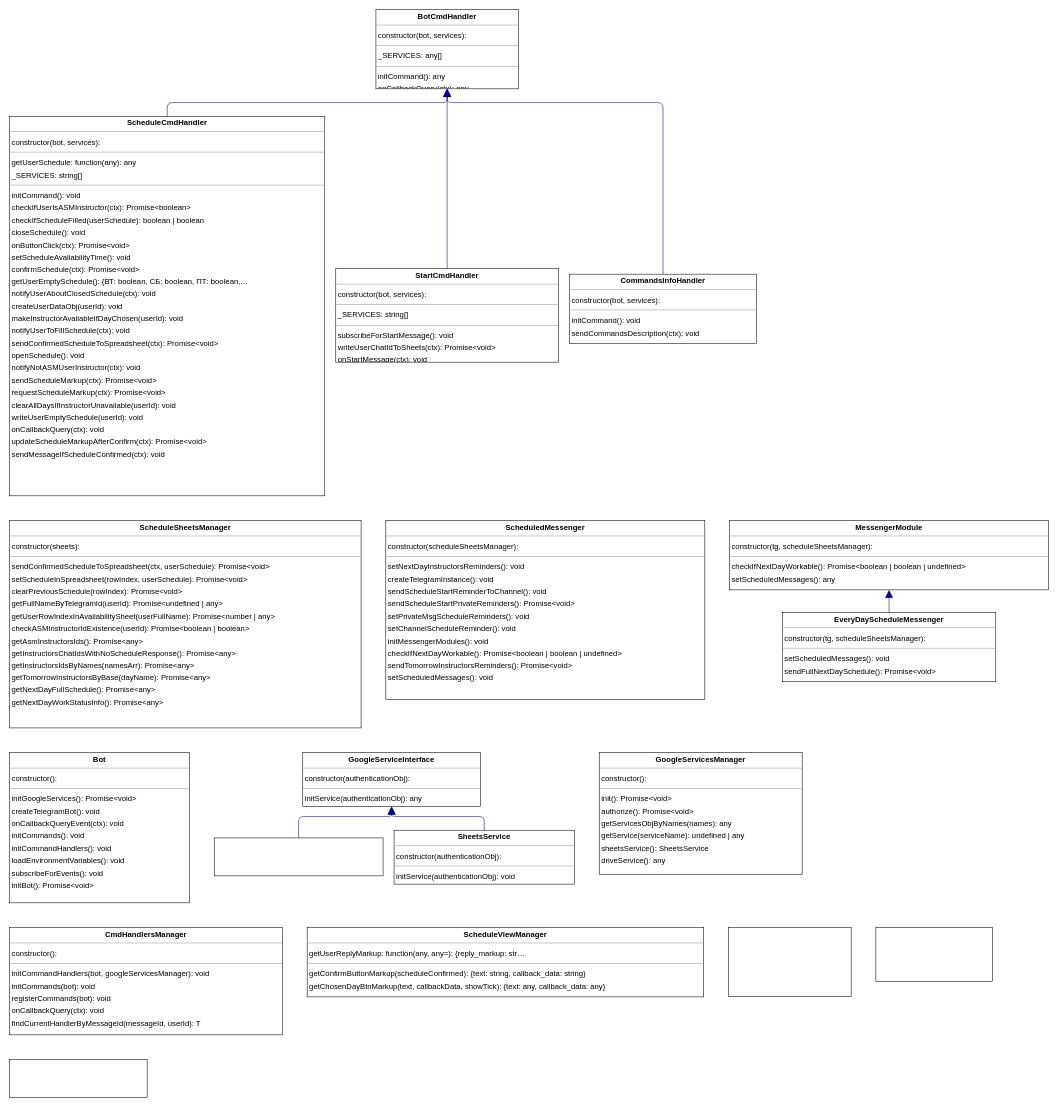
The diagram is 1058 pixels wide and 1107 high, and some of its shapes have lost their labels. The centre of each missing label's shape, as x and y in pixels:
"DateHelper dayNames: any nextDayName: any currentDayName: any" belongs at (789,961).
"DriveService constructor(authenticationObj):" belongs at (298,856).
"FireStoreTest constructor(): init(): Promise<void>" belongs at (933,954).
"UserData constructor(telegramId):" belongs at (78,1078).
